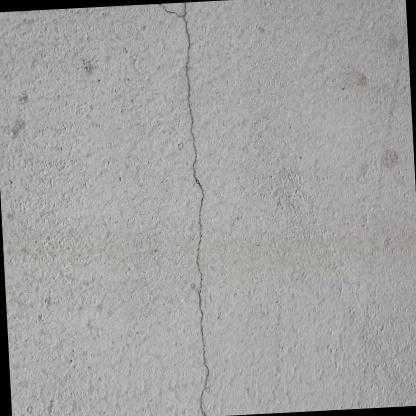crack: (148, 1, 209, 416)
